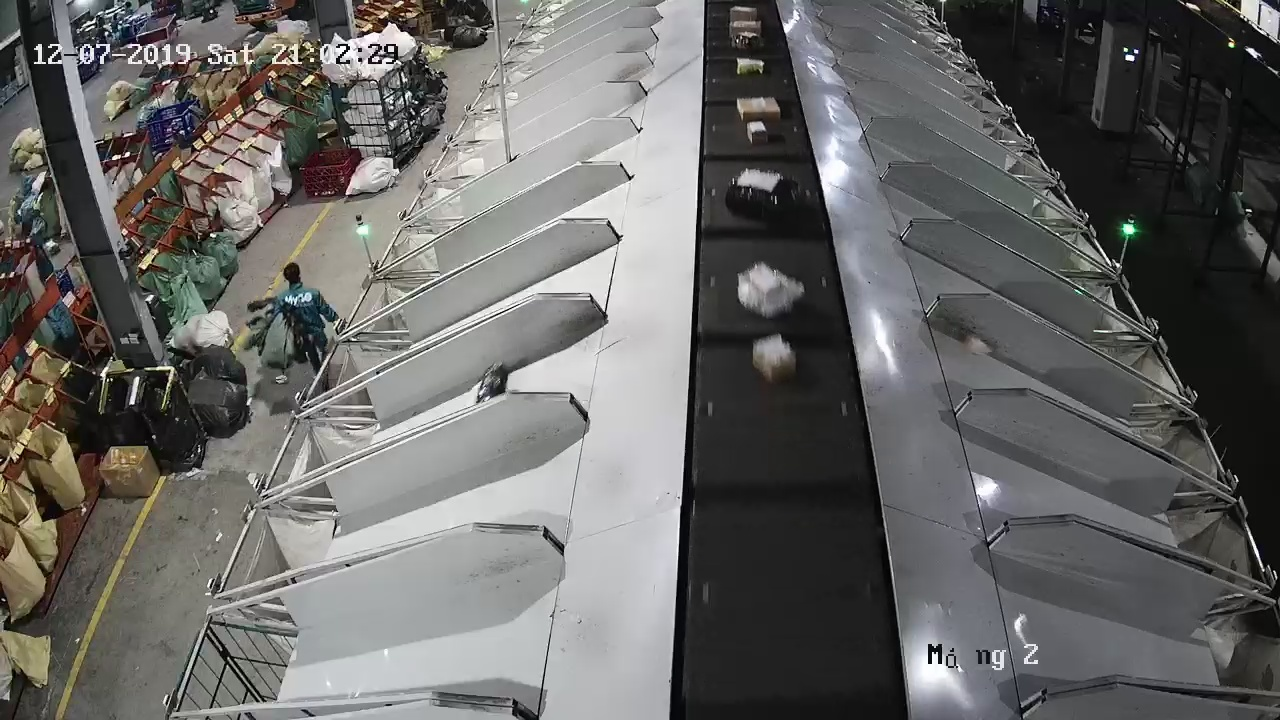parcel: (961, 331, 993, 355)
